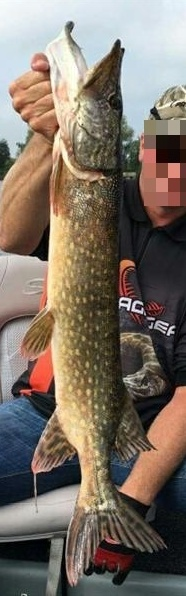Esox lucius: (20, 20, 166, 585)
